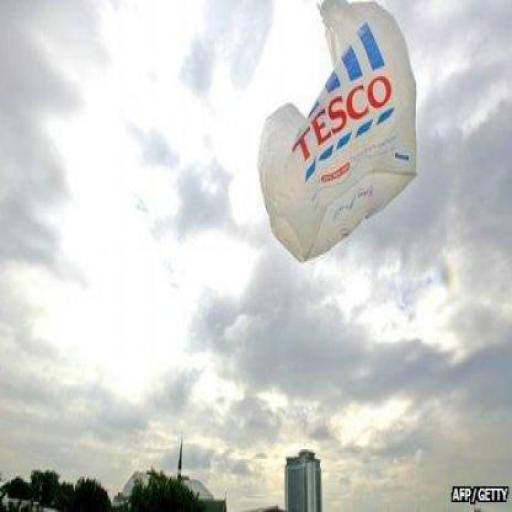plastic bag: (246, 12, 449, 274)
